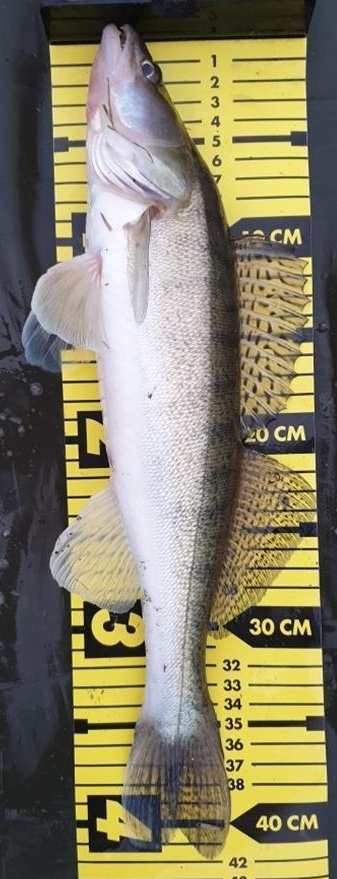Sander lucioperca: (20, 20, 317, 859)
